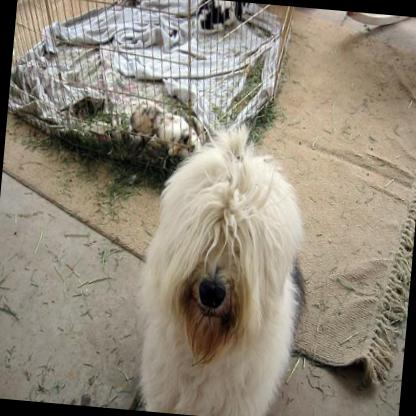Old_English_sheepdog: (103, 105, 325, 416)
